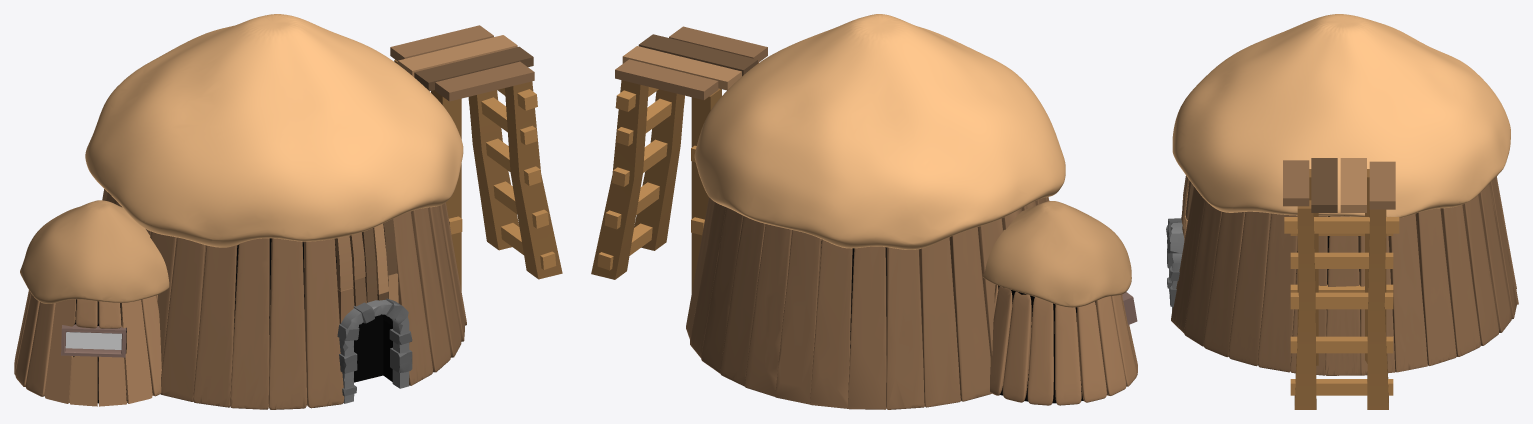
Rendered from papua.glb.
3 views of the same model, side by side, from view 1: azimuth 30°, elevation 25°; view 2: azimuth 150°, elevation 25°; view 3: azimuth 270°, elevation 25° (orthographic). The views are drawn at different scales.
Visible parts, largest first — view 1: Object_4; view 2: Object_4; view 3: Object_4.
Boxes of the visible parts, x1,y1,x2,y2 form: Object_4: (14, 14, 562, 409); Object_4: (591, 14, 1137, 409); Object_4: (1166, 14, 1518, 409).
Bounding box in the file's own units: 2.12 × 1.22 × 1.38.
1 material, 1 textured.
